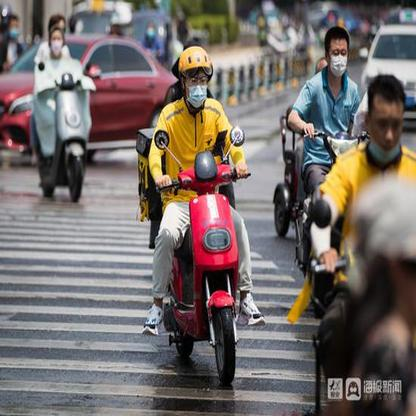target: (134, 45, 265, 395)
